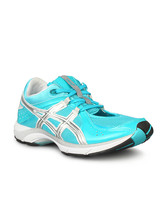shoes: (12, 69, 159, 160)
